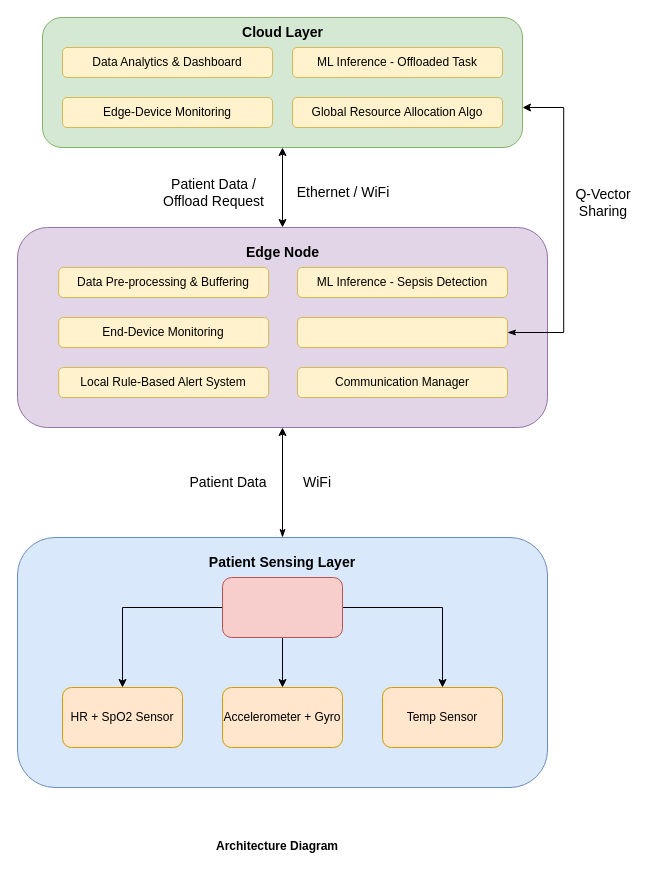
This 651x879 diagram has some shape labels left out. Here are the shapes that lost their labels. From the top down, the centre of each, then its label:
At point (402, 332): "Local Resource Allocation Algo".
At point (282, 607): "Wearable".
